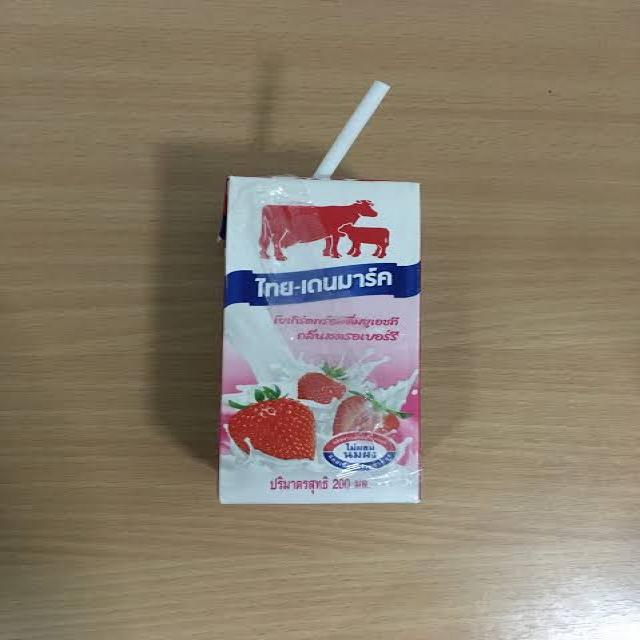drink carton: (145, 159, 481, 533)
